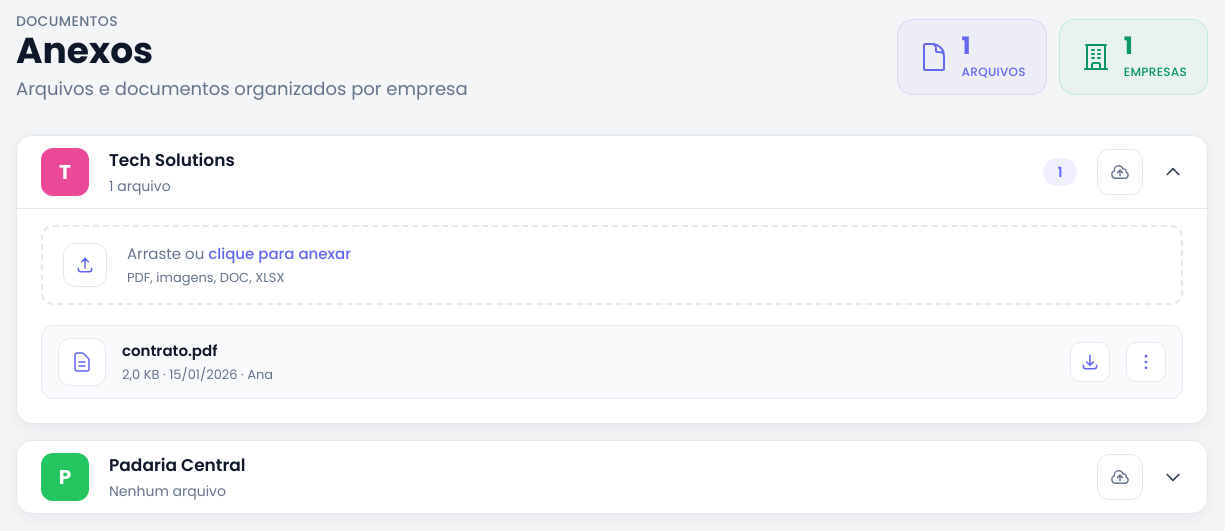
Test: Anexos › fecha a empresa ao clicar no cabeçalho de novo
Check: the text "contrato.pdf" is shown, box [122,340,217,361]
Click the button named "Fechar anexos de Tech Solutions". click: (612, 172)
box: [17,136,1207,208]
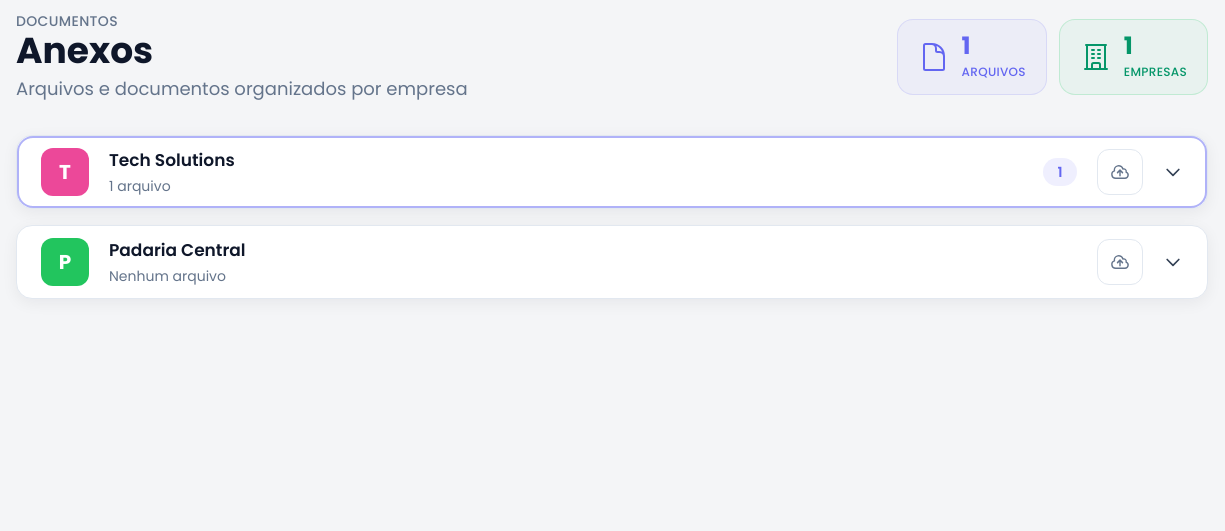
Check: the text "contrato.pdf" is gone
